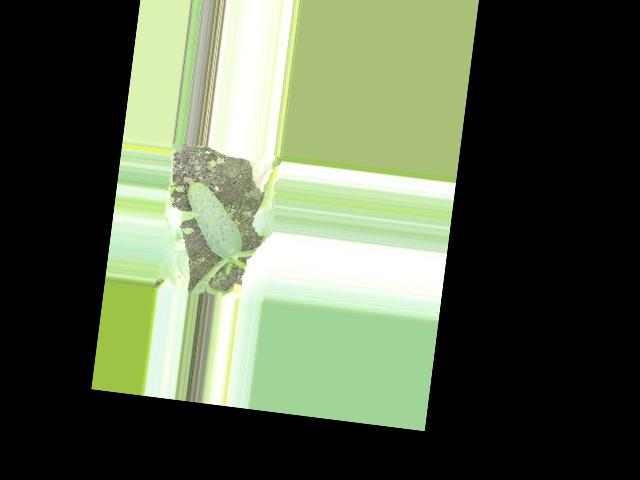cucumber: (179, 181, 249, 260)
